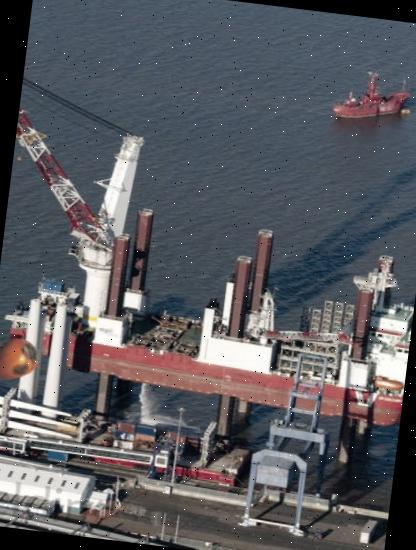Kaki: (0, 329, 44, 388)
